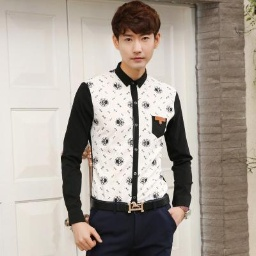face: (111, 1, 162, 73)
